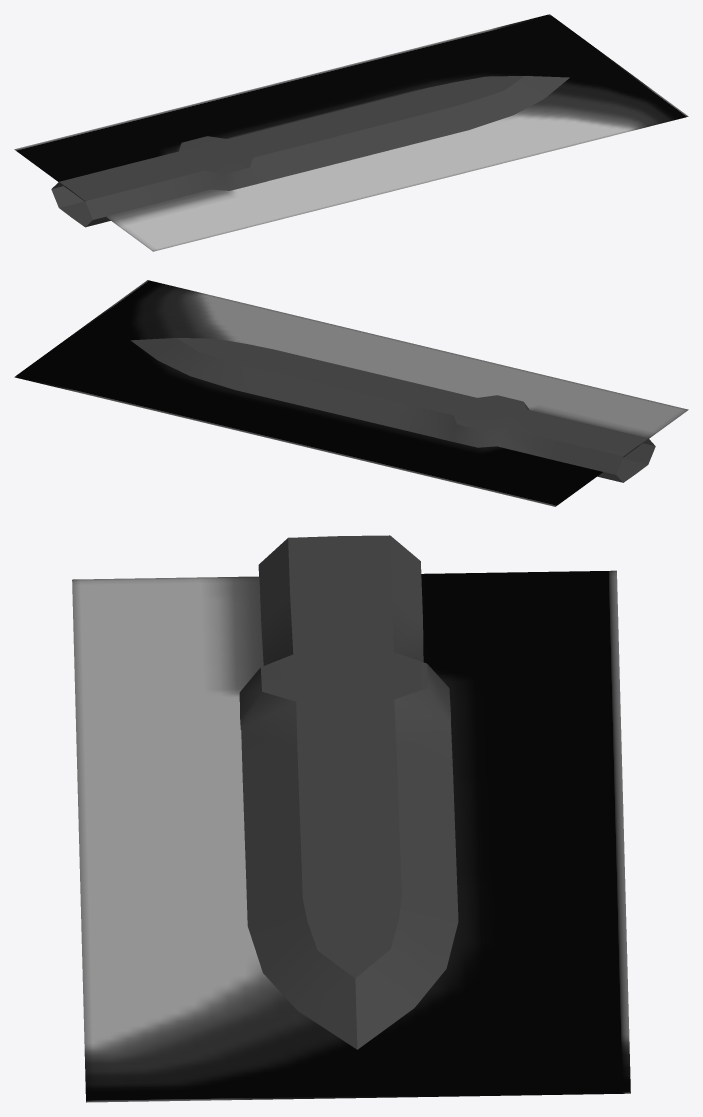
Rendered from EffToonlinkSwordFlare.obj.
3 views of the same model, one above another, from view 1: azimuth 30°, elevation 25°; view 2: azimuth 150°, elevation 25°; view 3: azimuth 270°, elevation 25° (orthographic). The views are drawn at different scales.
Parts seen in each view (by area): view 1: polygon0, polygon1; view 2: polygon0, polygon1; view 3: polygon0, polygon1.
Boxes of the visible parts, <box> form: polygon0: <box>14,14,688,251</box>; polygon1: <box>51,76,569,227</box>; polygon0: <box>14,280,688,506</box>; polygon1: <box>130,338,655,482</box>; polygon0: <box>72,570,630,1102</box>; polygon1: <box>239,535,458,1049</box>.
Bounding box in the file's own units: 8.79 × 0.4286 × 3.85.
1 material, 1 textured.
